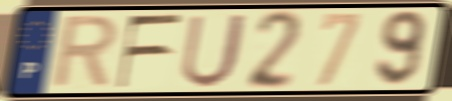2: (243, 6, 305, 95)
7: (314, 10, 368, 89)
9: (372, 8, 428, 91)
F: (114, 12, 186, 91)
R: (47, 13, 122, 92)
U: (177, 11, 251, 91)
